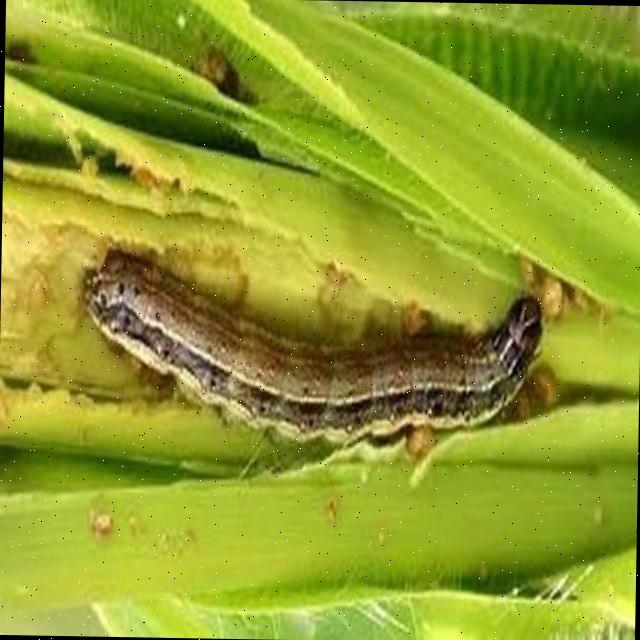worm: (78, 243, 549, 489)
